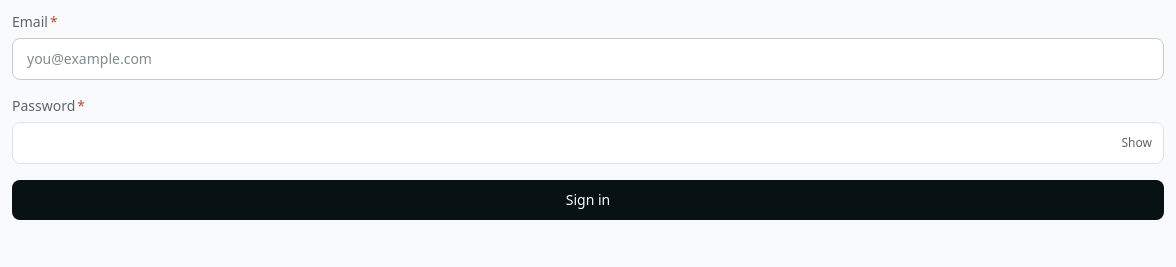
LoginForm › maps a server field error back onto its input
Type "ada@example.com" into the field labelled "Email*".
click(588, 59); type("ada@example.com")  # box [12, 38, 1164, 80]
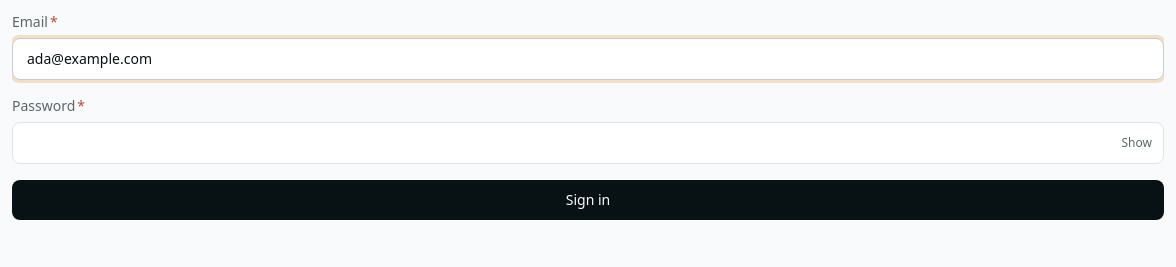
Type "Str0ng!pass" into the password field labelled "Password*".
click(588, 143); type("Str0ng!pass")  # box [12, 122, 1164, 164]
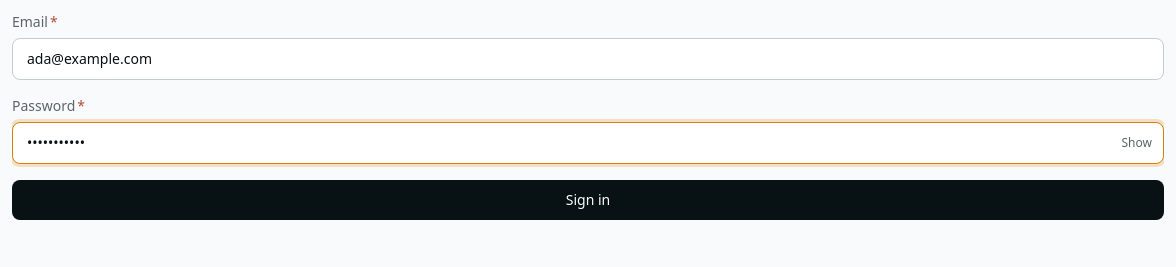
Click the button "Sign in".
click(588, 200)  # box [12, 180, 1164, 220]
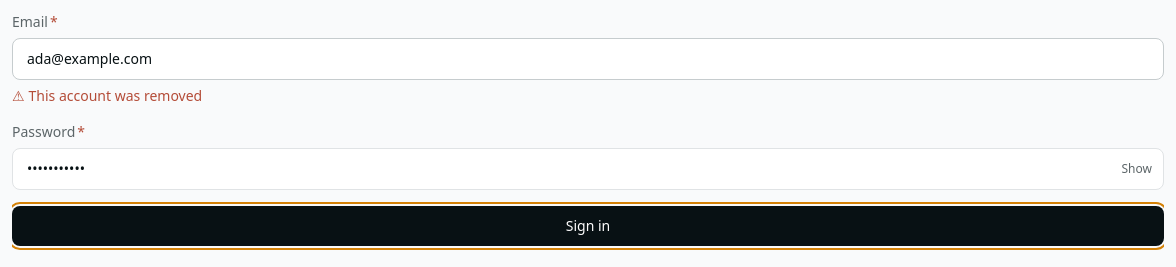
Expected: the text "This account was removed" is shown, [29, 86, 202, 106]
